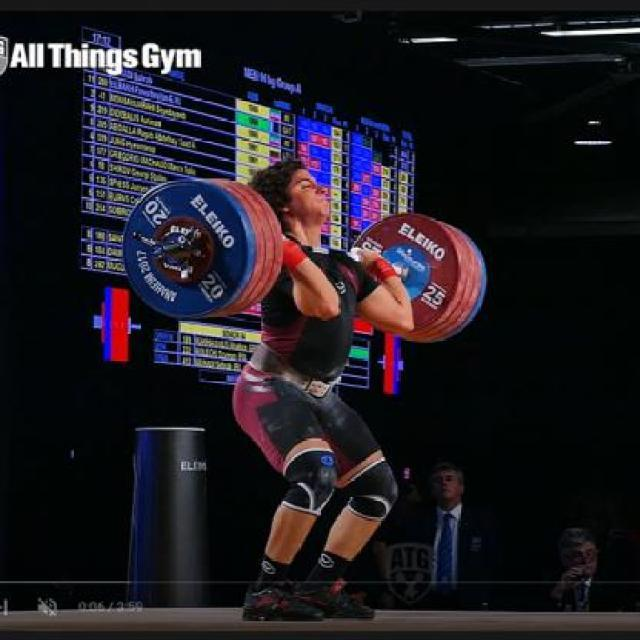barbell: (113, 167, 273, 326)
